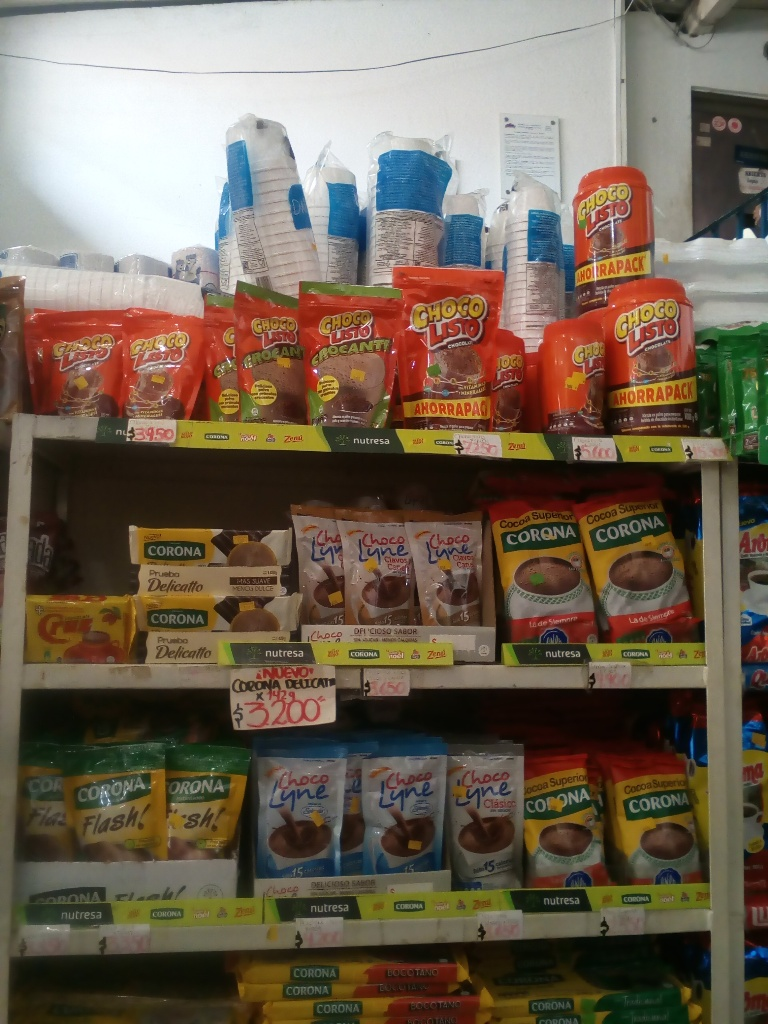COL0170102DYP25000: (301, 279, 404, 429)
COL0170103DYP20000: (24, 308, 122, 418)
COL0170103DYP40000: (393, 258, 496, 426)
COL0170103TRR00100: (601, 277, 712, 438)
COL0170103TRR30000: (543, 312, 613, 434)
